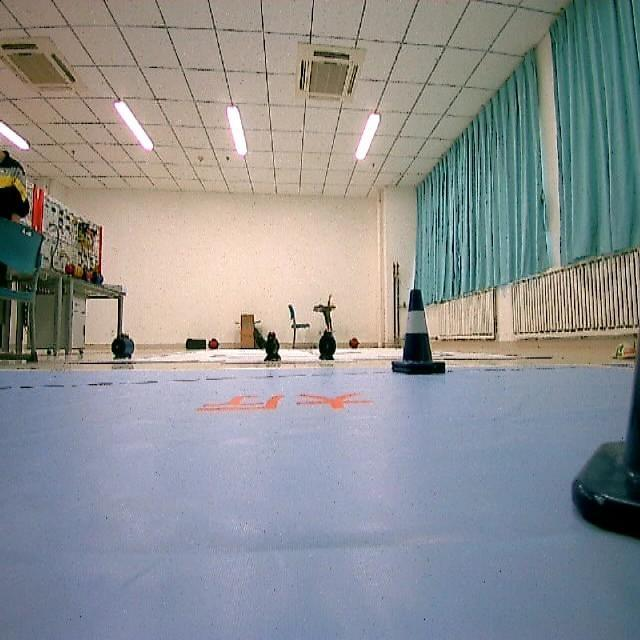obstacle: (388, 289, 450, 381)
